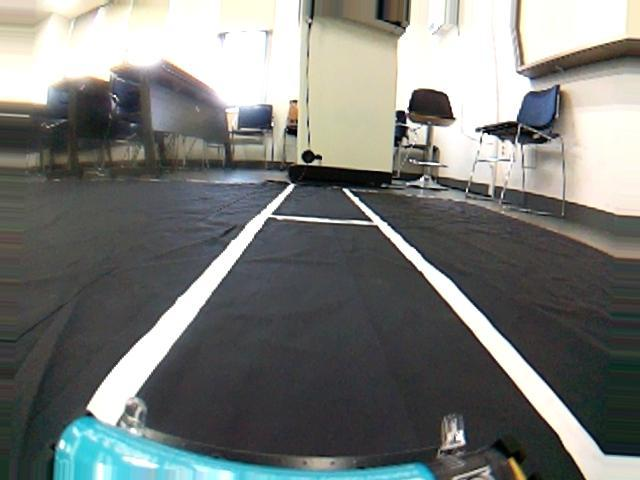straight: (4, 180, 640, 480)
